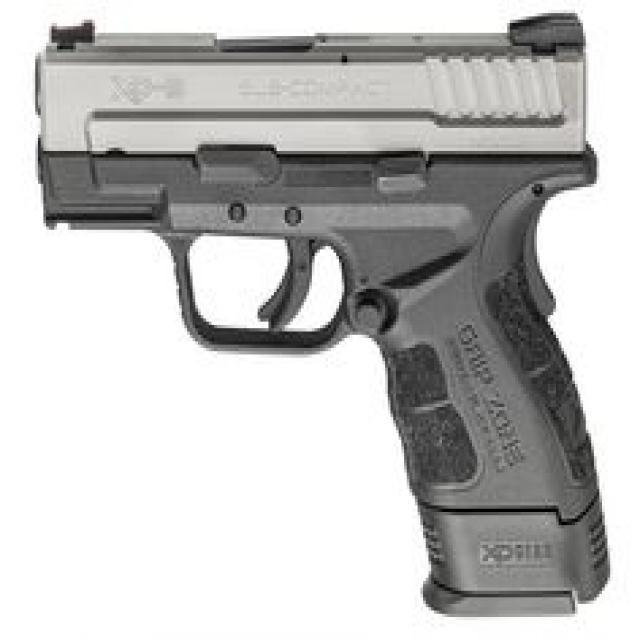semi automatic: (21, 5, 620, 627)
